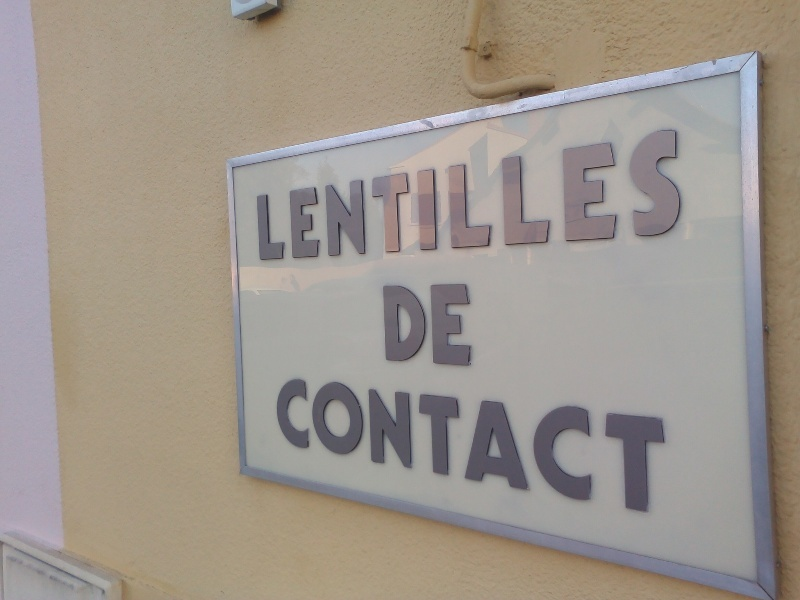text: (257, 122, 272, 265), (273, 122, 288, 265), (289, 122, 304, 265), (305, 122, 320, 265), (321, 122, 336, 265), (337, 122, 352, 265), (353, 122, 368, 265), (369, 122, 384, 265), (385, 122, 400, 265), (401, 122, 416, 265), (417, 122, 432, 265), (433, 122, 448, 265), (449, 122, 464, 265), (465, 122, 480, 265), (481, 122, 496, 265), (497, 122, 512, 265), (513, 122, 528, 265), (529, 122, 544, 265), (545, 122, 560, 265), (561, 122, 576, 265), (577, 122, 592, 265), (593, 122, 608, 265), (609, 122, 624, 265), (625, 122, 640, 265), (641, 122, 656, 265), (657, 122, 672, 265), (289, 375, 304, 517), (305, 375, 320, 517), (321, 375, 336, 517), (337, 375, 352, 517), (353, 375, 368, 517), (369, 375, 384, 517), (385, 375, 400, 517), (401, 375, 416, 517), (417, 375, 432, 517), (433, 375, 448, 517), (449, 375, 464, 517), (465, 375, 480, 517), (481, 375, 496, 517), (497, 375, 512, 517), (513, 375, 528, 517), (529, 375, 544, 517), (545, 375, 560, 517), (561, 375, 576, 517), (577, 375, 592, 517), (593, 375, 608, 517), (609, 375, 624, 517), (625, 375, 640, 517), (641, 375, 656, 517), (657, 375, 672, 517), (274, 375, 288, 517), (673, 122, 686, 265), (385, 281, 400, 370), (401, 281, 416, 370), (417, 281, 432, 370), (433, 281, 448, 370), (449, 281, 464, 370), (465, 281, 474, 370), (254, 122, 256, 265), (381, 281, 384, 370)
